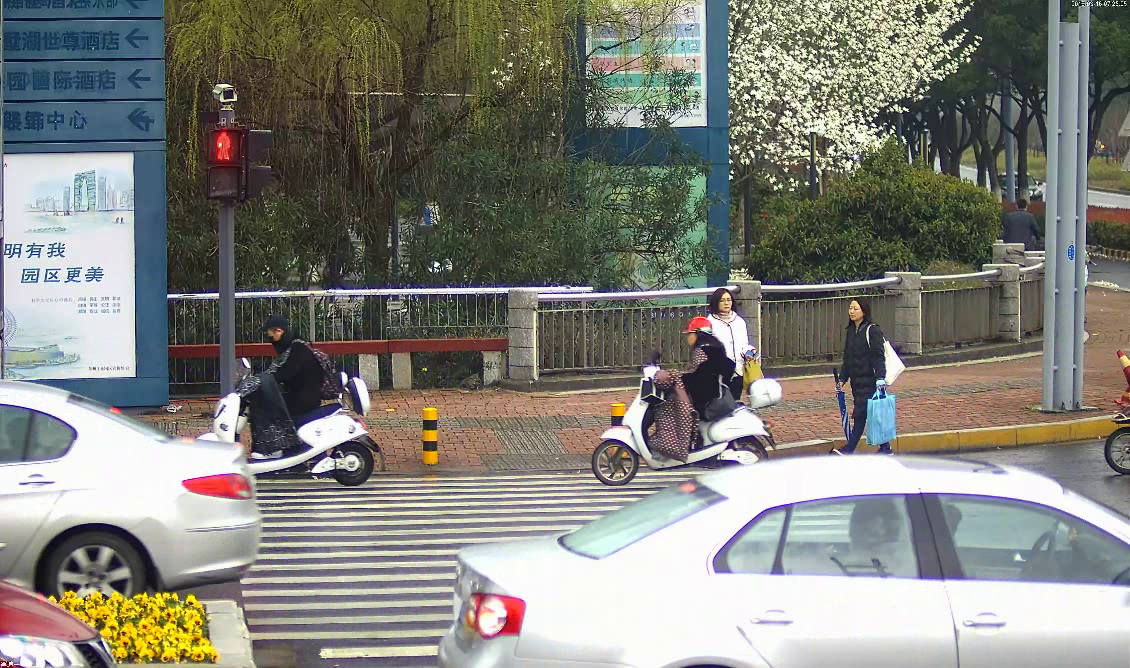person: (251, 309, 334, 475), (828, 295, 903, 459), (667, 316, 740, 467), (701, 284, 764, 412), (999, 195, 1043, 260)
